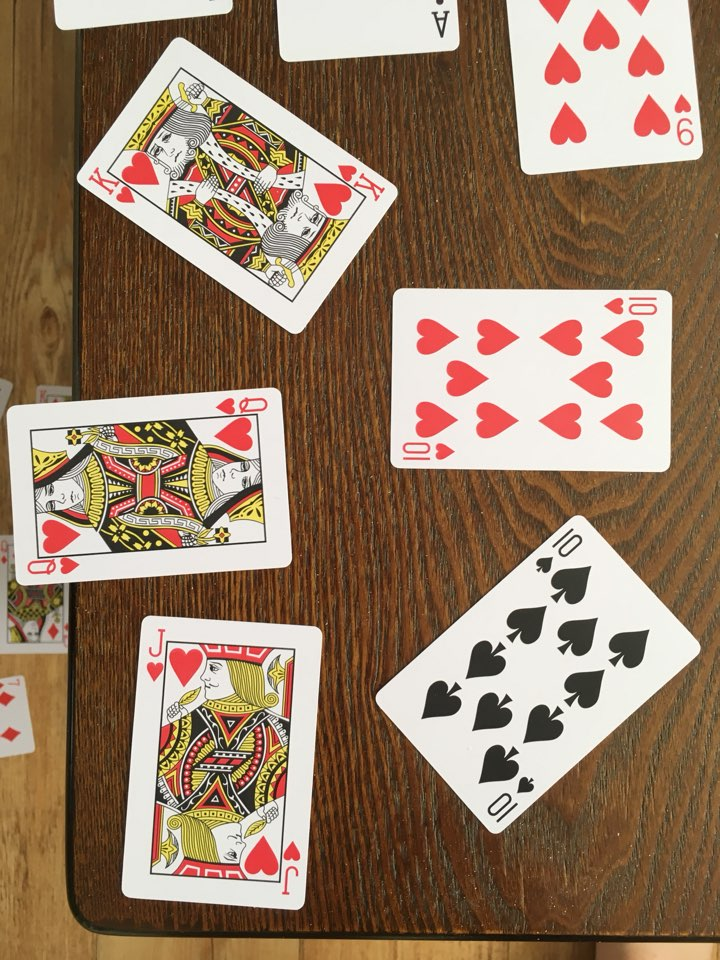ace: (270, 1, 464, 68)
jack: (118, 601, 326, 918)
king: (69, 34, 403, 341)
nine: (493, 1, 707, 182)
queen: (3, 381, 300, 593)
ten: (365, 509, 703, 841), (381, 279, 681, 478)
